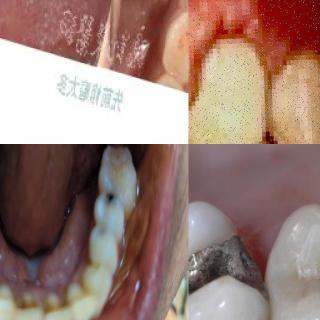Gum Swelling: (188, 0, 314, 99)
cavities: (103, 188, 123, 222)
stains: (12, 288, 38, 320), (44, 294, 70, 320)
